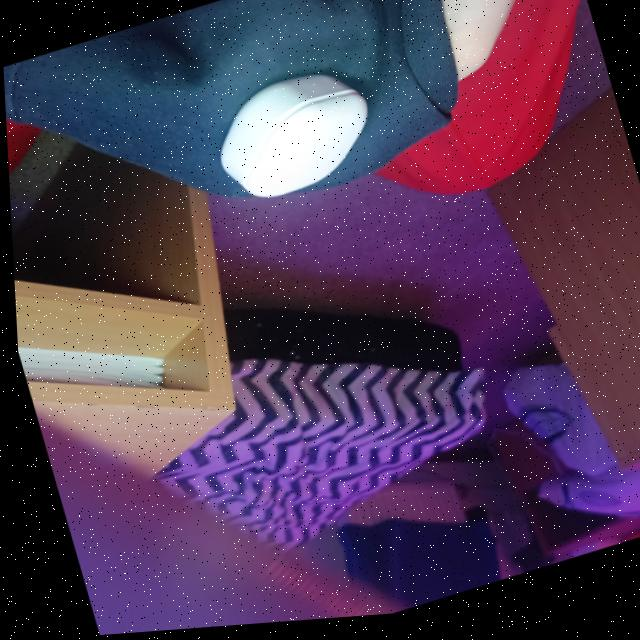headphones: (217, 79, 365, 200)
